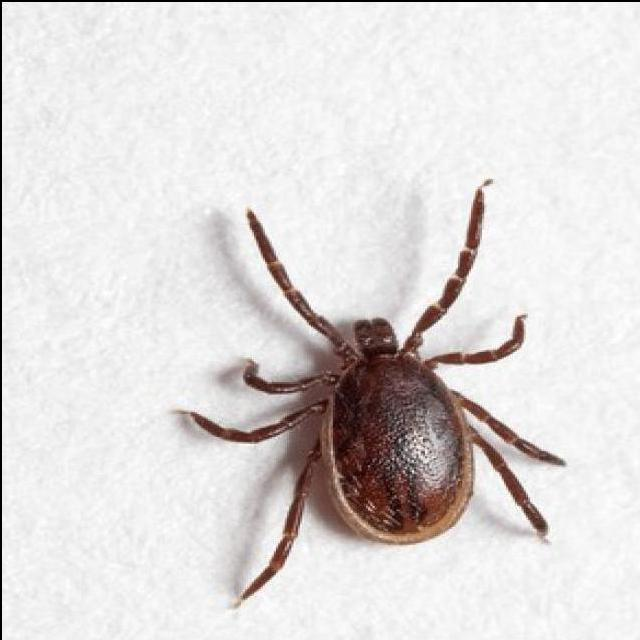Ixodes Ricinus-M: (182, 179, 563, 599)
